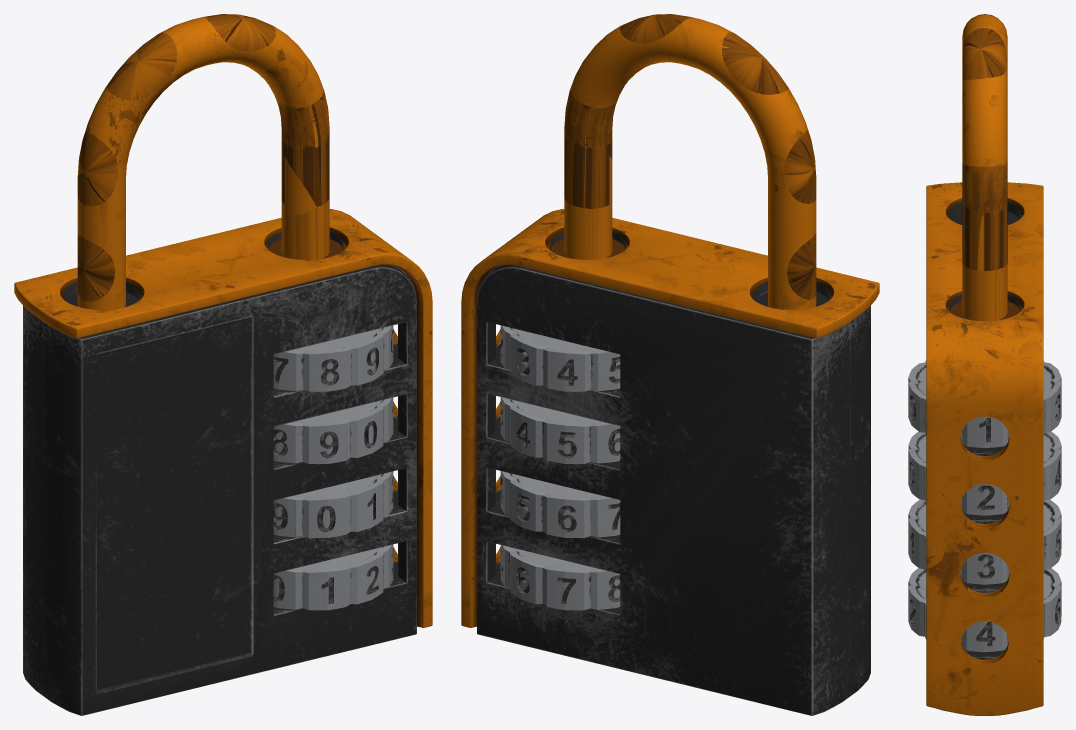
Rendered from lock1.fbx.
3 views of the same model, side by side, from view 1: azimuth 30°, elevation 25°; view 2: azimuth 150°, elevation 25°; view 3: azimuth 270°, elevation 25° (orthographic). The views are drawn at different scales.
Visible parts, largest first — view 1: Cube, Cylinder.006, Cube.001, Cylinder.003, Cylinder.001, Cylinder.002, Cylinder.004; view 2: Cube, Cylinder.006, Cube.001, Cylinder.001, Cylinder.003, Cylinder.002, Cylinder.004; view 3: Cube.001, Cylinder.006, Cylinder.003, Cylinder.002, Cylinder.001, Cylinder.004, Cube, Cylinder.007.
Part boxes in pixels (bbox=[...]): Cube: bbox=[23, 264, 416, 715]; Cylinder.006: bbox=[77, 14, 329, 309]; Cube.001: bbox=[14, 209, 432, 627]; Cylinder.003: bbox=[273, 471, 393, 537]; Cylinder.001: bbox=[273, 397, 393, 464]; Cylinder.002: bbox=[273, 325, 393, 391]; Cylinder.004: bbox=[273, 544, 393, 610]; Cube: bbox=[477, 264, 870, 715]; Cylinder.006: bbox=[564, 14, 816, 309]; Cube.001: bbox=[461, 209, 879, 627]; Cylinder.001: bbox=[500, 397, 620, 464]; Cylinder.003: bbox=[500, 471, 620, 537]; Cylinder.002: bbox=[500, 325, 620, 391]; Cylinder.004: bbox=[500, 545, 620, 610]; Cube.001: bbox=[926, 182, 1043, 715]; Cylinder.006: bbox=[962, 14, 1007, 321]; Cylinder.003: bbox=[908, 499, 1061, 584]; Cylinder.002: bbox=[908, 360, 1061, 447]; Cylinder.001: bbox=[908, 431, 1061, 515]; Cylinder.004: bbox=[908, 568, 1061, 652]; Cube: bbox=[947, 211, 1022, 659]; Cylinder.007: bbox=[949, 202, 1020, 219].
Size of the model in its own units: 4.66 by 7.85 by 1.82.
4 materials, 4 textured.
